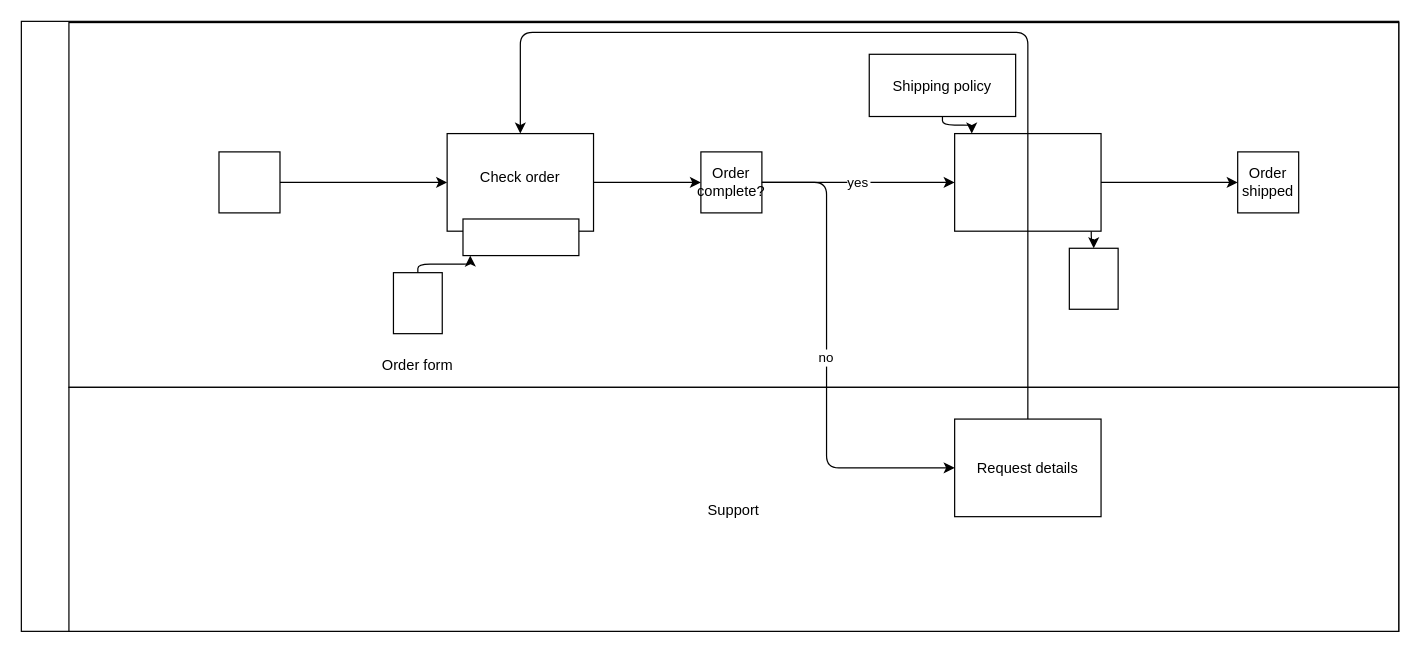
Image size: 1420x653. Some labels were removed from this diagram. The shapes that lost their labels are listed below. From the top down, each one's box as (x1, y1, x2, y2) in pixels, then its label:
(218, 151, 280, 213): Order received
(953, 132, 1101, 231): Ship order
(462, 218, 579, 256): Order desk
(1068, 247, 1118, 309): Shipping note
